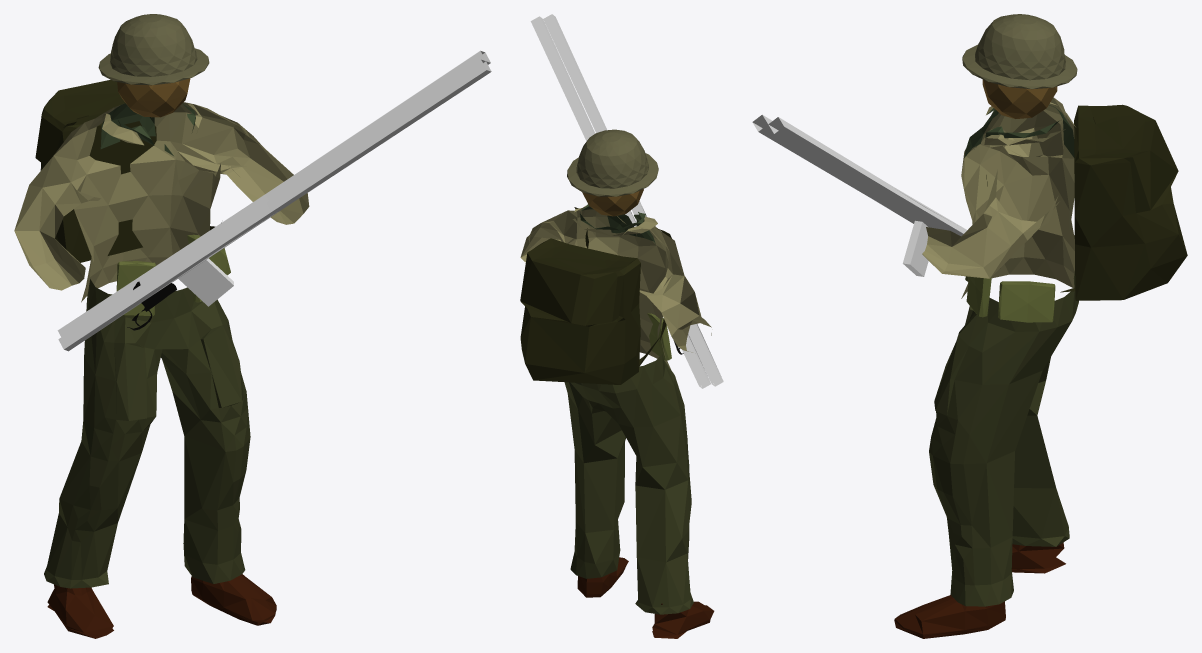
Rendered from Riflemen.glb.
The picture shows the model from 3 angles, left to right: view 1: azimuth 30°, elevation 25°; view 2: azimuth 150°, elevation 25°; view 3: azimuth 270°, elevation 25°; orthographic projection. The views are drawn at different scales.
Parts seen in each view (by area): view 1: pants, jacket, Cylinder.001, backpack, hat, shoe left, shoe right, Sphere, Cube, shirt, Cube.001; view 2: pants, backpack, jacket, Cylinder.001, hat, shoe right, Sphere, shoe left, shirt, Cube.001; view 3: pants, backpack, jacket, hat, Cylinder.001, shoe left, Cube.003, Sphere, shoe right, shirt, Cube, Cube.002.
Boxes of the visible parts, x1=… form: pants: x1=44, y1=279, x2=250, y2=588; jacket: x1=14, y1=102, x2=309, y2=302; Cylinder.001: x1=57, y1=50, x2=491, y2=351; backpack: x1=35, y1=79, x2=156, y2=262; hat: x1=98, y1=14, x2=209, y2=85; shoe left: x1=191, y1=574, x2=276, y2=625; shoe right: x1=47, y1=584, x2=113, y2=638; Sphere: x1=117, y1=78, x2=190, y2=117; Cube: x1=178, y1=258, x2=233, y2=306; shirt: x1=100, y1=103, x2=195, y2=155; Cube.001: x1=116, y1=261, x2=156, y2=316; pants: x1=564, y1=348, x2=693, y2=614; backpack: x1=520, y1=238, x2=640, y2=384; jacket: x1=520, y1=205, x2=711, y2=370; Cylinder.001: x1=530, y1=14, x2=723, y2=388; hat: x1=567, y1=129, x2=658, y2=196; shoe right: x1=652, y1=601, x2=714, y2=638; Sphere: x1=582, y1=189, x2=643, y2=216; shoe left: x1=577, y1=557, x2=628, y2=597; shirt: x1=580, y1=204, x2=655, y2=243; Cube.001: x1=647, y1=313, x2=671, y2=360; pants: x1=929, y1=271, x2=1078, y2=606; backpack: x1=1074, y1=104, x2=1187, y2=300; jacket: x1=922, y1=97, x2=1075, y2=298; hat: x1=962, y1=14, x2=1077, y2=89; Cylinder.001: x1=752, y1=114, x2=967, y2=236; shoe left: x1=894, y1=595, x2=1005, y2=638; Cube.003: x1=998, y1=281, x2=1055, y2=322; Sphere: x1=982, y1=79, x2=1057, y2=118; shoe right: x1=1011, y1=542, x2=1065, y2=573; shirt: x1=964, y1=105, x2=1074, y2=157; Cube: x1=902, y1=220, x2=928, y2=276; Cube.002: x1=966, y1=276, x2=991, y2=317.
Size of the model in its own units: 1.68 by 2.76 by 1.85.
